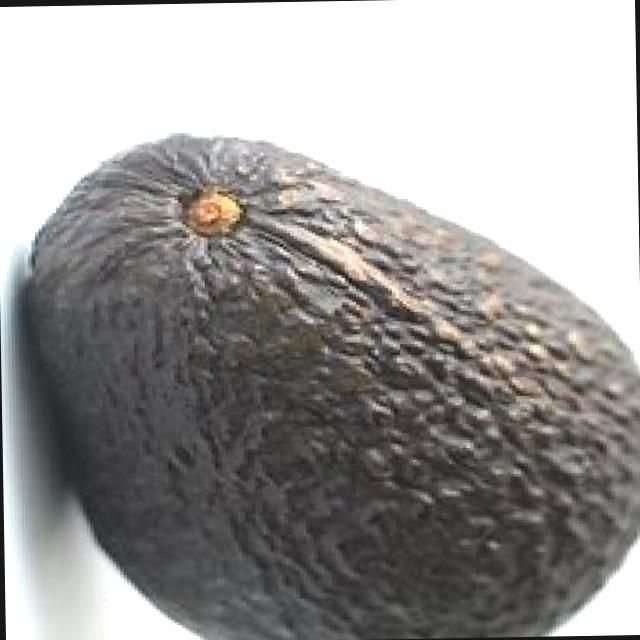avocado: (0, 126, 640, 640)
